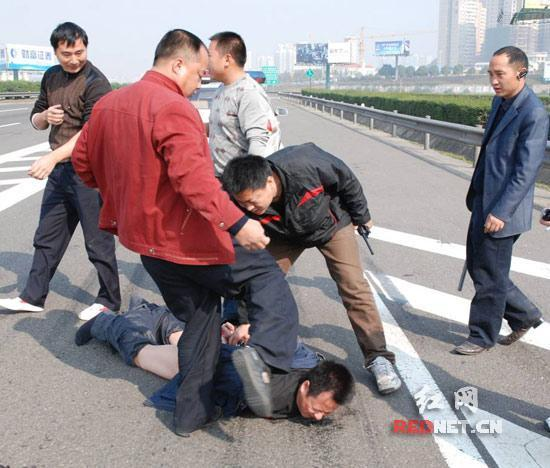Fall-Detected: (58, 277, 377, 430)
